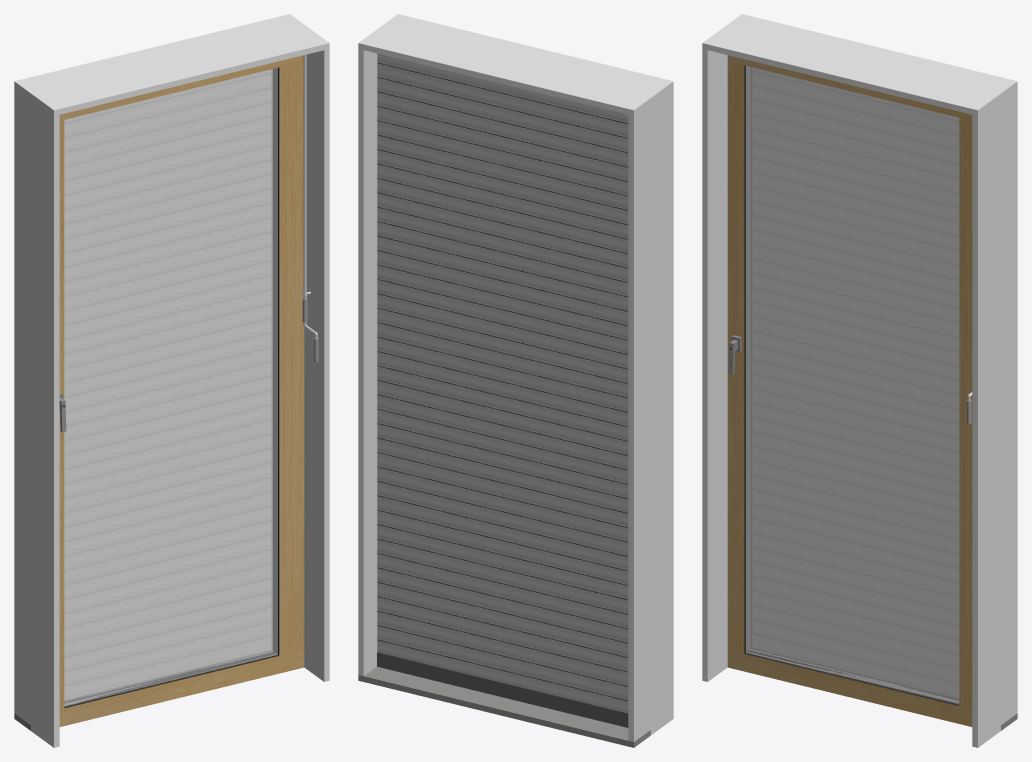
The model's file is frenchWindow2.obj.
The picture shows the model from 3 angles, left to right: view 1: azimuth 30°, elevation 25°; view 2: azimuth 150°, elevation 25°; view 3: azimuth 330°, elevation 25°; orthographic projection.
Visible parts, largest first — view 1: sweethome3d_opening_on_hinge_1_Window_Pane_wall_1_1_1_25_153, sweethome3d_opening_on_rail_1_Roller_Shutter_Foot_back_119_194, 46, sweethome3d_opening_on_hinge_1_Inside_Inner_Frame_top_74_104, sweethome3d_rail_1_Outside_Walls_back_179_188, 6, sweethome3d_opening_on_hinge_1_Outside_Inner_Frame_top_56_122, sweethome3d_opening_on_hinge_2_Roller_Shutter_Crank_Cylinde.000; view 2: sweethome3d_opening_on_rail_1_Roller_Shutter_Foot_back_119_194, sweethome3d_rail_1_Outside_Walls_back_179_188, 46, 58; view 3: sweethome3d_opening_on_hinge_1_Window_Pane_wall_1_1_1_25_153, sweethome3d_opening_on_rail_1_Roller_Shutter_Foot_back_119_194, 46, sweethome3d_opening_on_hinge_1_Inside_Inner_Frame_top_74_104, sweethome3d_rail_1_Outside_Walls_back_179_188, sweethome3d_opening_on_hinge_1_Outside_Inner_Frame_top_56_122, 6.
Part boxes in pixels (x1,y1,x2,y2): sweethome3d_opening_on_hinge_1_Window_Pane_wall_1_1_1_25_153: [64, 68, 277, 706]; sweethome3d_opening_on_rail_1_Roller_Shutter_Foot_back_119_194: [64, 70, 271, 699]; 46: [31, 28, 329, 747]; sweethome3d_opening_on_hinge_1_Inside_Inner_Frame_top_74_104: [59, 58, 293, 723]; sweethome3d_rail_1_Outside_Walls_back_179_188: [14, 14, 309, 724]; 6: [59, 55, 304, 726]; sweethome3d_opening_on_hinge_1_Outside_Inner_Frame_top_56_122: [64, 67, 279, 708]; sweethome3d_opening_on_hinge_2_Roller_Shutter_Crank_Cylinde.000: [302, 54, 318, 362]; sweethome3d_opening_on_rail_1_Roller_Shutter_Foot_back_119_194: [377, 53, 628, 727]; sweethome3d_rail_1_Outside_Walls_back_179_188: [358, 28, 653, 741]; 46: [378, 14, 673, 735]; 58: [358, 667, 650, 747]; sweethome3d_opening_on_hinge_1_Window_Pane_wall_1_1_1_25_153: [746, 66, 959, 704]; sweethome3d_opening_on_rail_1_Roller_Shutter_Foot_back_119_194: [752, 68, 958, 697]; 46: [702, 28, 1000, 747]; sweethome3d_opening_on_hinge_1_Inside_Inner_Frame_top_74_104: [730, 56, 972, 723]; sweethome3d_rail_1_Outside_Walls_back_179_188: [722, 14, 1017, 724]; sweethome3d_opening_on_hinge_1_Outside_Inner_Frame_top_56_122: [744, 65, 959, 705]; 6: [727, 55, 972, 726].
Size of the model in its own units: 100 by 221 by 25.
